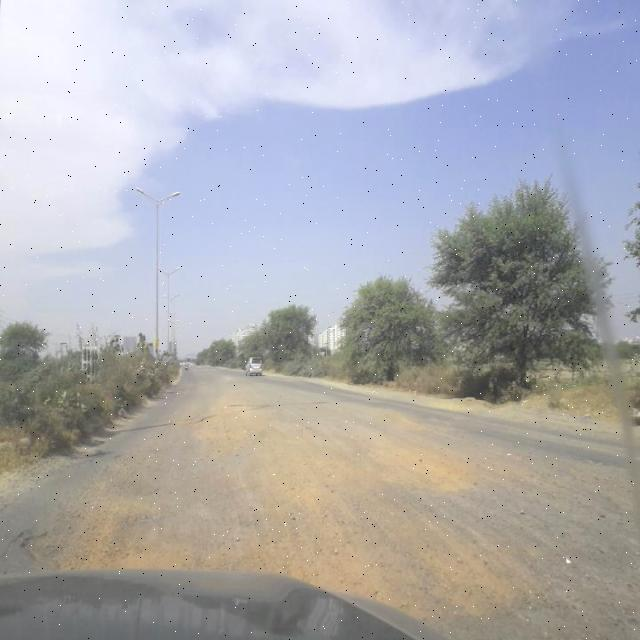D40: (10, 401, 640, 616)
